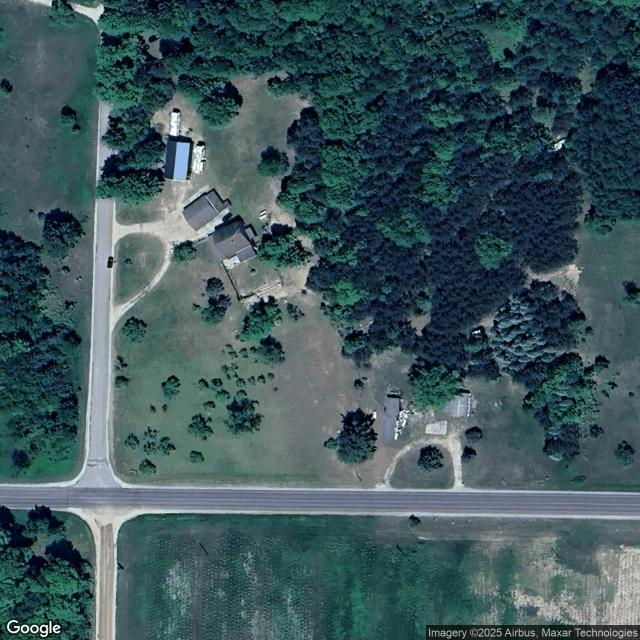Propane: (259, 210, 267, 216), (259, 214, 267, 220)
